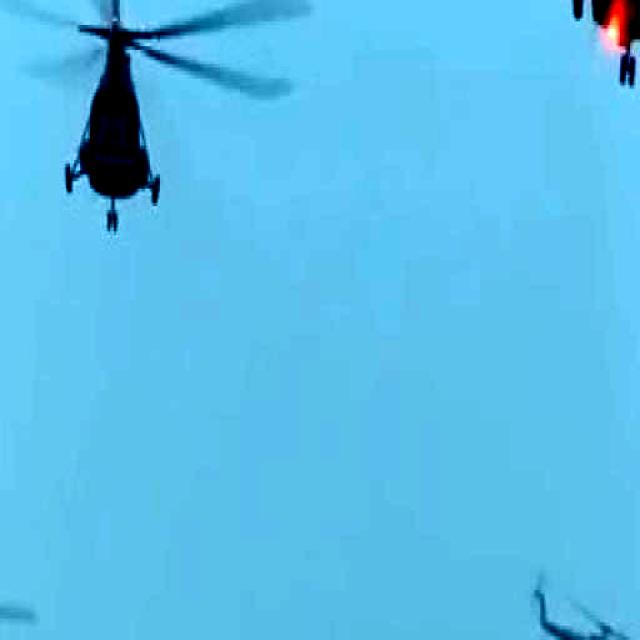drone: (0, 0, 304, 244), (526, 565, 640, 640)
